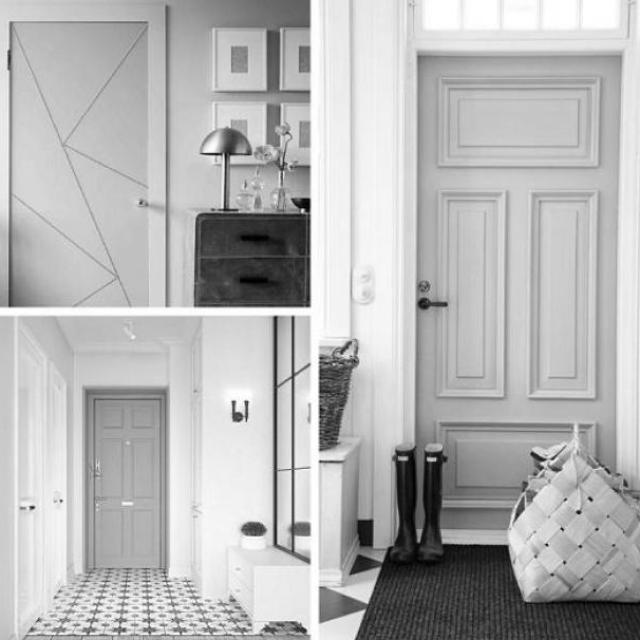door: (414, 52, 620, 511), (8, 19, 152, 306), (91, 395, 163, 569)
